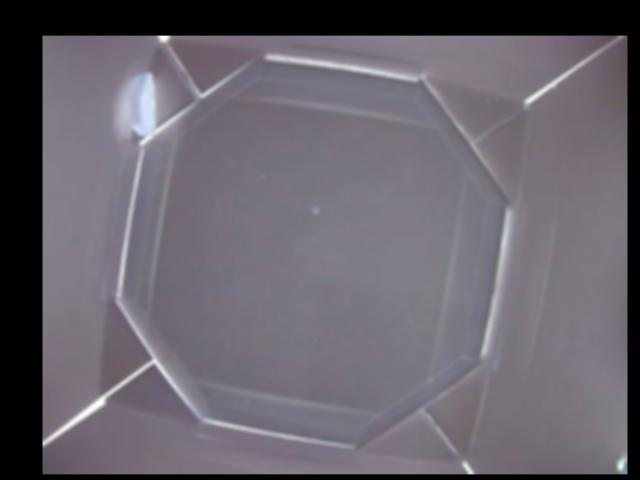China: (124, 72, 155, 138)
